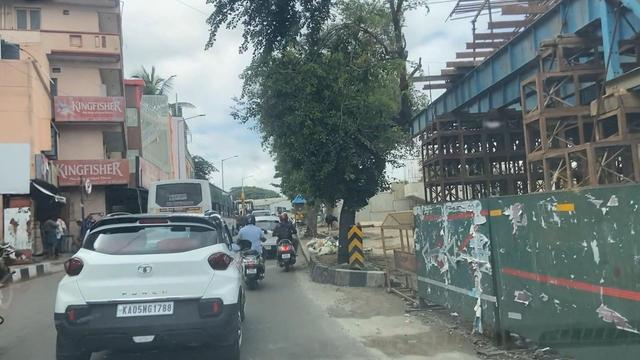LMV: (55, 231, 232, 348), (271, 211, 300, 267), (237, 210, 261, 277)
